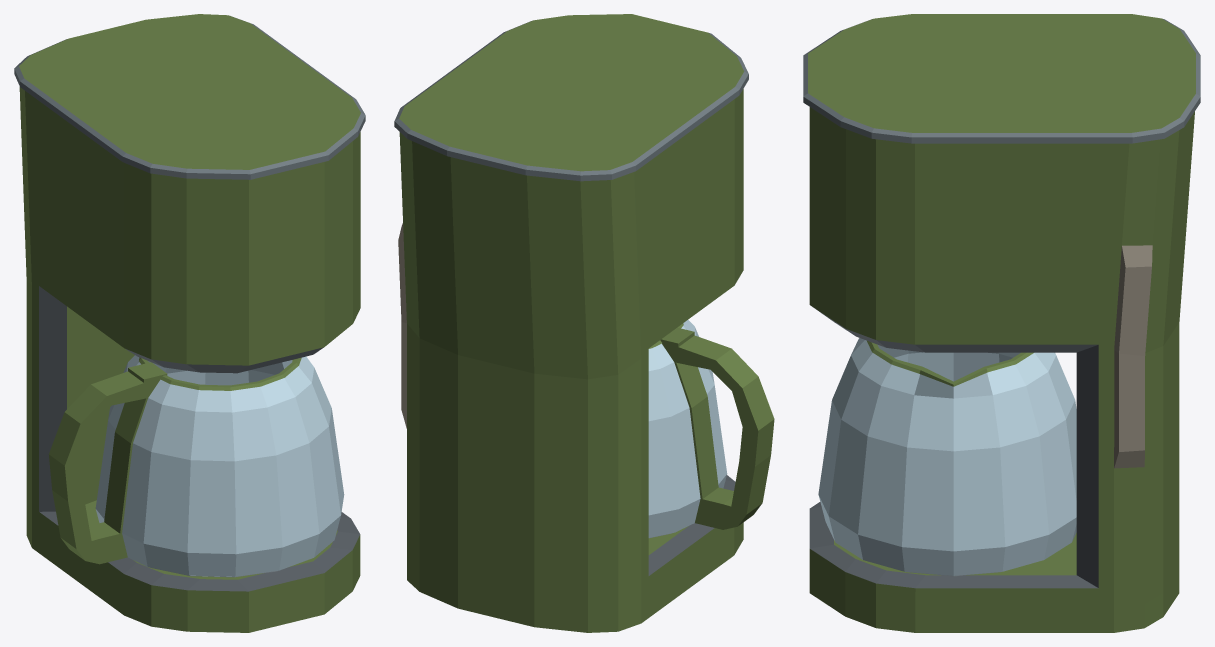
Rendered from coffemaker_02_B.gltf.
3 views of the same model, side by side, from view 1: azimuth 30°, elevation 25°; view 2: azimuth 150°, elevation 25°; view 3: azimuth 270°, elevation 25° (orthographic). The views are drawn at different scales.
Visible parts, largest first — view 1: coffemaker_02_B, Kittle_01_B; view 2: coffemaker_02_B, Kittle_01_B; view 3: coffemaker_02_B, Kittle_01_B.
Part boxes in pixels (box(x1,y1,x2,y2)): coffemaker_02_B: box(14, 14, 365, 632); Kittle_01_B: box(48, 355, 344, 577); coffemaker_02_B: box(394, 14, 748, 632); Kittle_01_B: box(648, 320, 774, 538); coffemaker_02_B: box(803, 14, 1200, 632); Kittle_01_B: box(818, 338, 1076, 576).
Size of the model in its own units: 0.22 by 0.3466 by 0.2492.
Materials: 1 (1 with a texture image).
